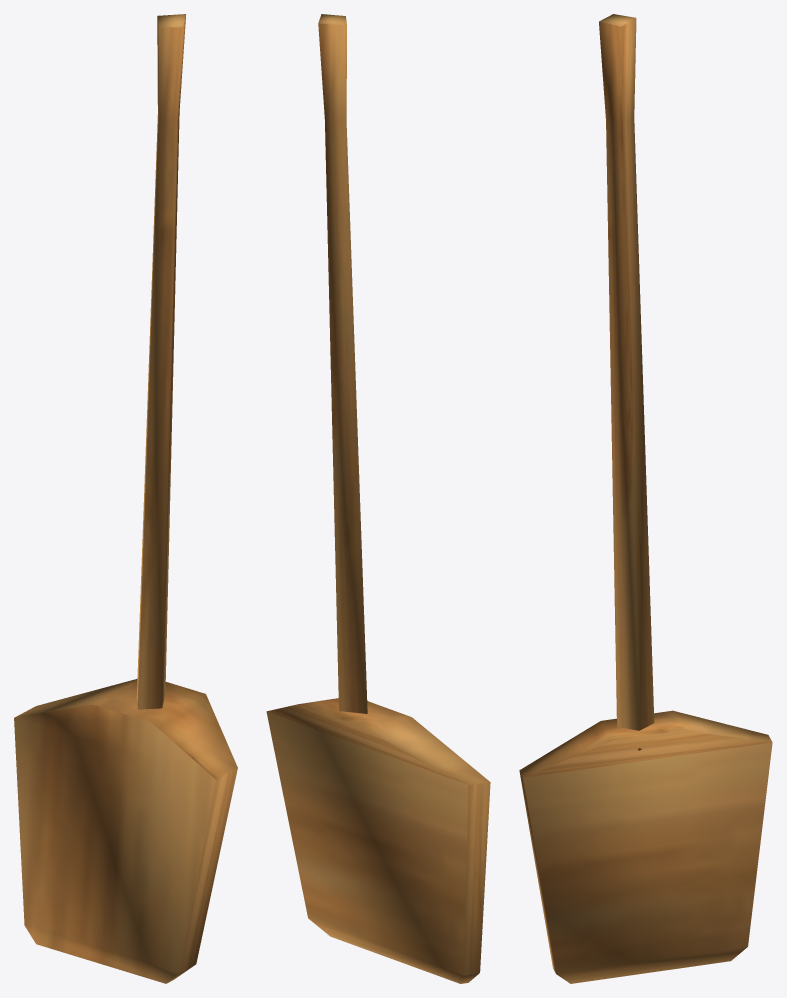
Rendered from H_PizzaPeel.fbx.
3 renders of one model, left to right at view 1: azimuth 30°, elevation 25°; view 2: azimuth 210°, elevation 25°; view 3: azimuth 270°, elevation 25°, orthographic. The views are drawn at different scales.
Parts seen in each view (by area): view 1: PizzaPeel; view 2: PizzaPeel; view 3: PizzaPeel.
Part boxes in pixels (<box>): PizzaPeel: <box>14,14,237,983</box>; PizzaPeel: <box>266,14,490,983</box>; PizzaPeel: <box>519,14,772,983</box>.
Bounding box in the file's own units: 16.37 × 126 × 29.51.
